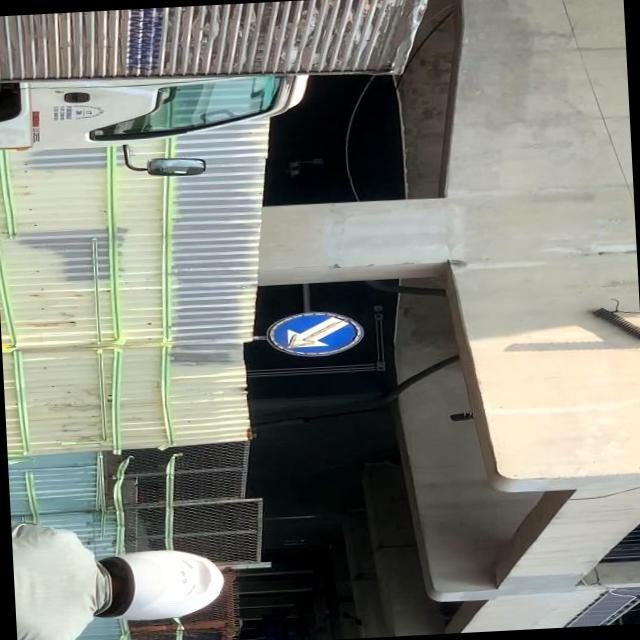R-302a: (266, 309, 362, 360)
